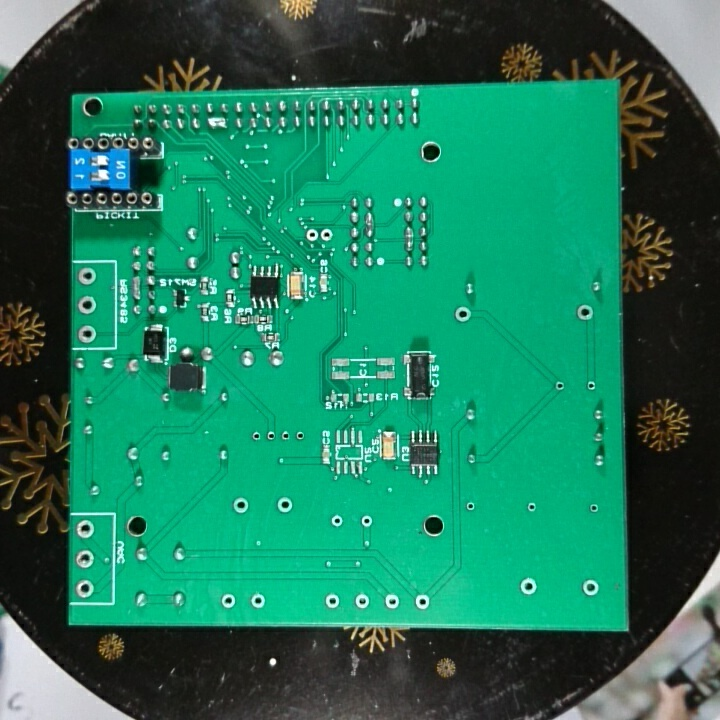F: (74, 518, 97, 540), (77, 265, 99, 287), (76, 294, 99, 315), (75, 576, 96, 599), (231, 495, 253, 516), (76, 323, 97, 344), (74, 548, 94, 570), (352, 590, 373, 610), (411, 591, 432, 611), (519, 575, 539, 596), (274, 495, 295, 515), (382, 591, 401, 612), (582, 577, 600, 599), (574, 302, 596, 320), (357, 511, 376, 531), (454, 305, 474, 324), (322, 591, 343, 609), (219, 590, 236, 612), (319, 223, 334, 246), (328, 512, 346, 531), (304, 226, 319, 246), (249, 591, 265, 609), (552, 377, 568, 395), (584, 375, 599, 394), (292, 427, 308, 443), (525, 498, 539, 516), (249, 429, 264, 445), (276, 430, 294, 443), (587, 500, 602, 514), (464, 498, 477, 514), (264, 430, 277, 443)
P: (401, 223, 417, 254), (363, 209, 379, 238), (204, 114, 230, 131), (129, 274, 143, 301)
